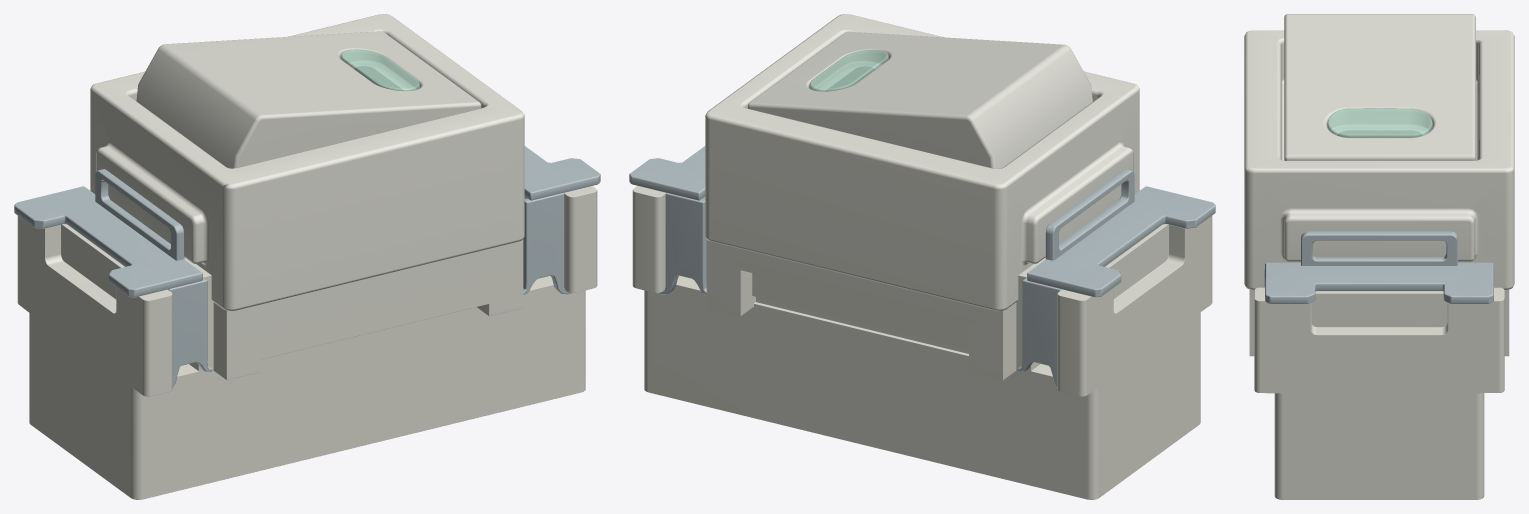
The model's file is switch_pilot.glb.
3 renders of one model, left to right at view 1: azimuth 30°, elevation 25°; view 2: azimuth 150°, elevation 25°; view 3: azimuth 270°, elevation 25°, orthographic. The views are drawn at different scales.
Parts seen in each view (by area): view 1: BodyResin, CoverResin, HandleResin, MetalClip, PilotLens; view 2: BodyResin, CoverResin, HandleResin, MetalClip, PilotLens; view 3: BodyResin, CoverResin, HandleResin, MetalClip, PilotLens, PilotCore.
Part boxes in pixels (<box>): BodyResin: <box>17,186,597,499</box>; CoverResin: <box>90,14,524,311</box>; HandleResin: <box>136,31,481,168</box>; MetalClip: <box>14,146,600,387</box>; PilotLens: <box>340,49,419,90</box>; BodyResin: <box>632,186,1212,499</box>; CoverResin: <box>705,14,1139,311</box>; HandleResin: <box>748,31,1092,168</box>; MetalClip: <box>629,146,1215,387</box>; PilotLens: <box>809,50,888,91</box>; BodyResin: <box>1249,287,1509,499</box>; CoverResin: <box>1244,30,1514,289</box>; HandleResin: <box>1284,14,1475,160</box>; MetalClip: <box>1264,231,1494,304</box>; PilotLens: <box>1327,108,1432,137</box>; PilotCore: <box>1338,130,1422,137</box>.
Bounding box in the file's own units: 0.044 × 0.0312 × 0.0227.
